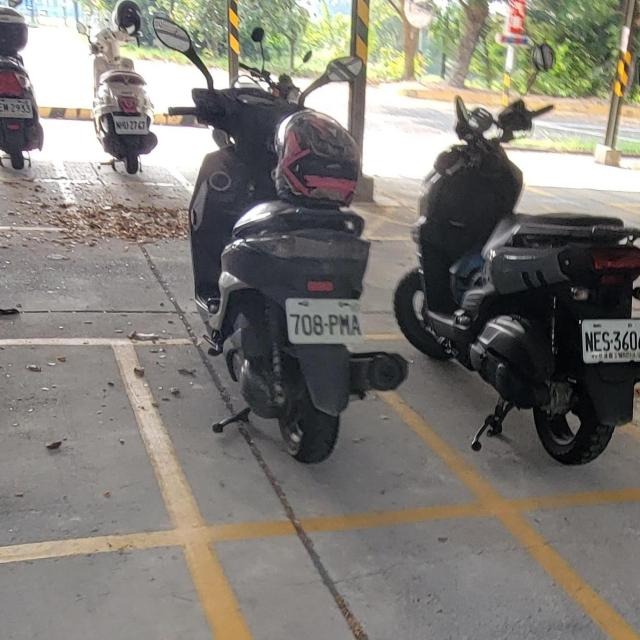W: (282, 290, 366, 350), (577, 310, 640, 367)
